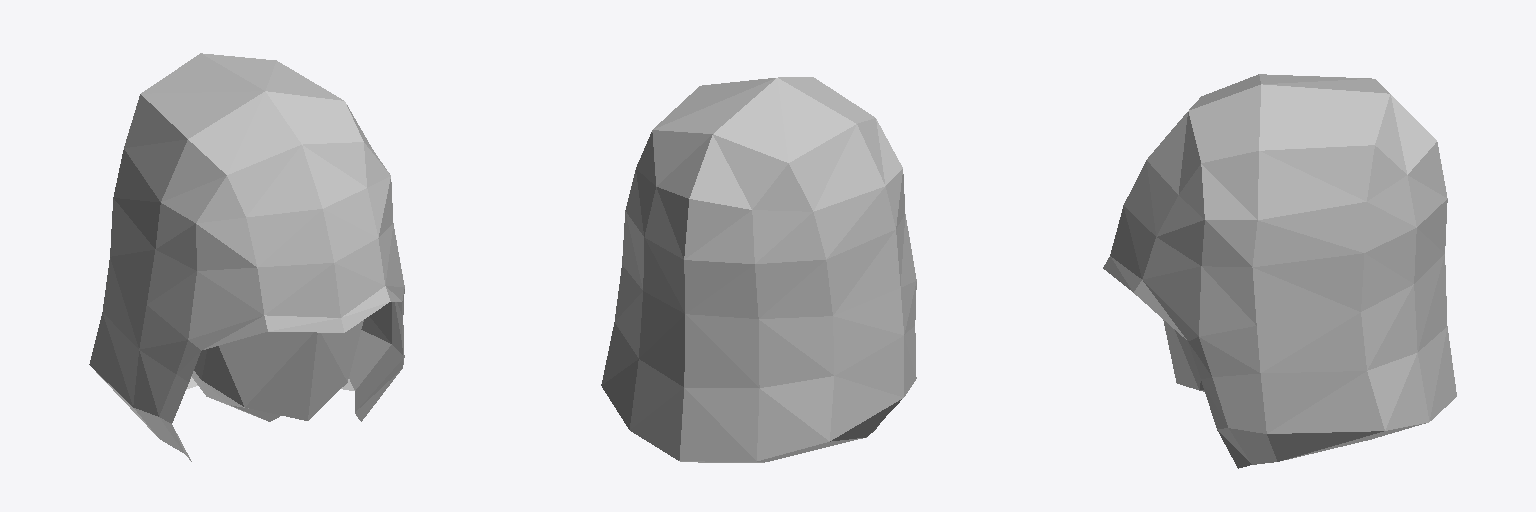
Rendered from RogueFace.obj.
3 views of the same model, side by side, from view 1: azimuth 30°, elevation 25°; view 2: azimuth 150°, elevation 25°; view 3: azimuth 270°, elevation 25° (orthographic).
Parts seen in each view (by area): view 1: RogueFace; view 2: RogueFace; view 3: RogueFace.
Part boxes in pixels (x1,y1,x2,y2): RogueFace: (89,53,404,461); RogueFace: (601,77,916,462); RogueFace: (1103,74,1456,468).
Bounding box in the file's own units: 0.8584 × 1.09 × 1.02.